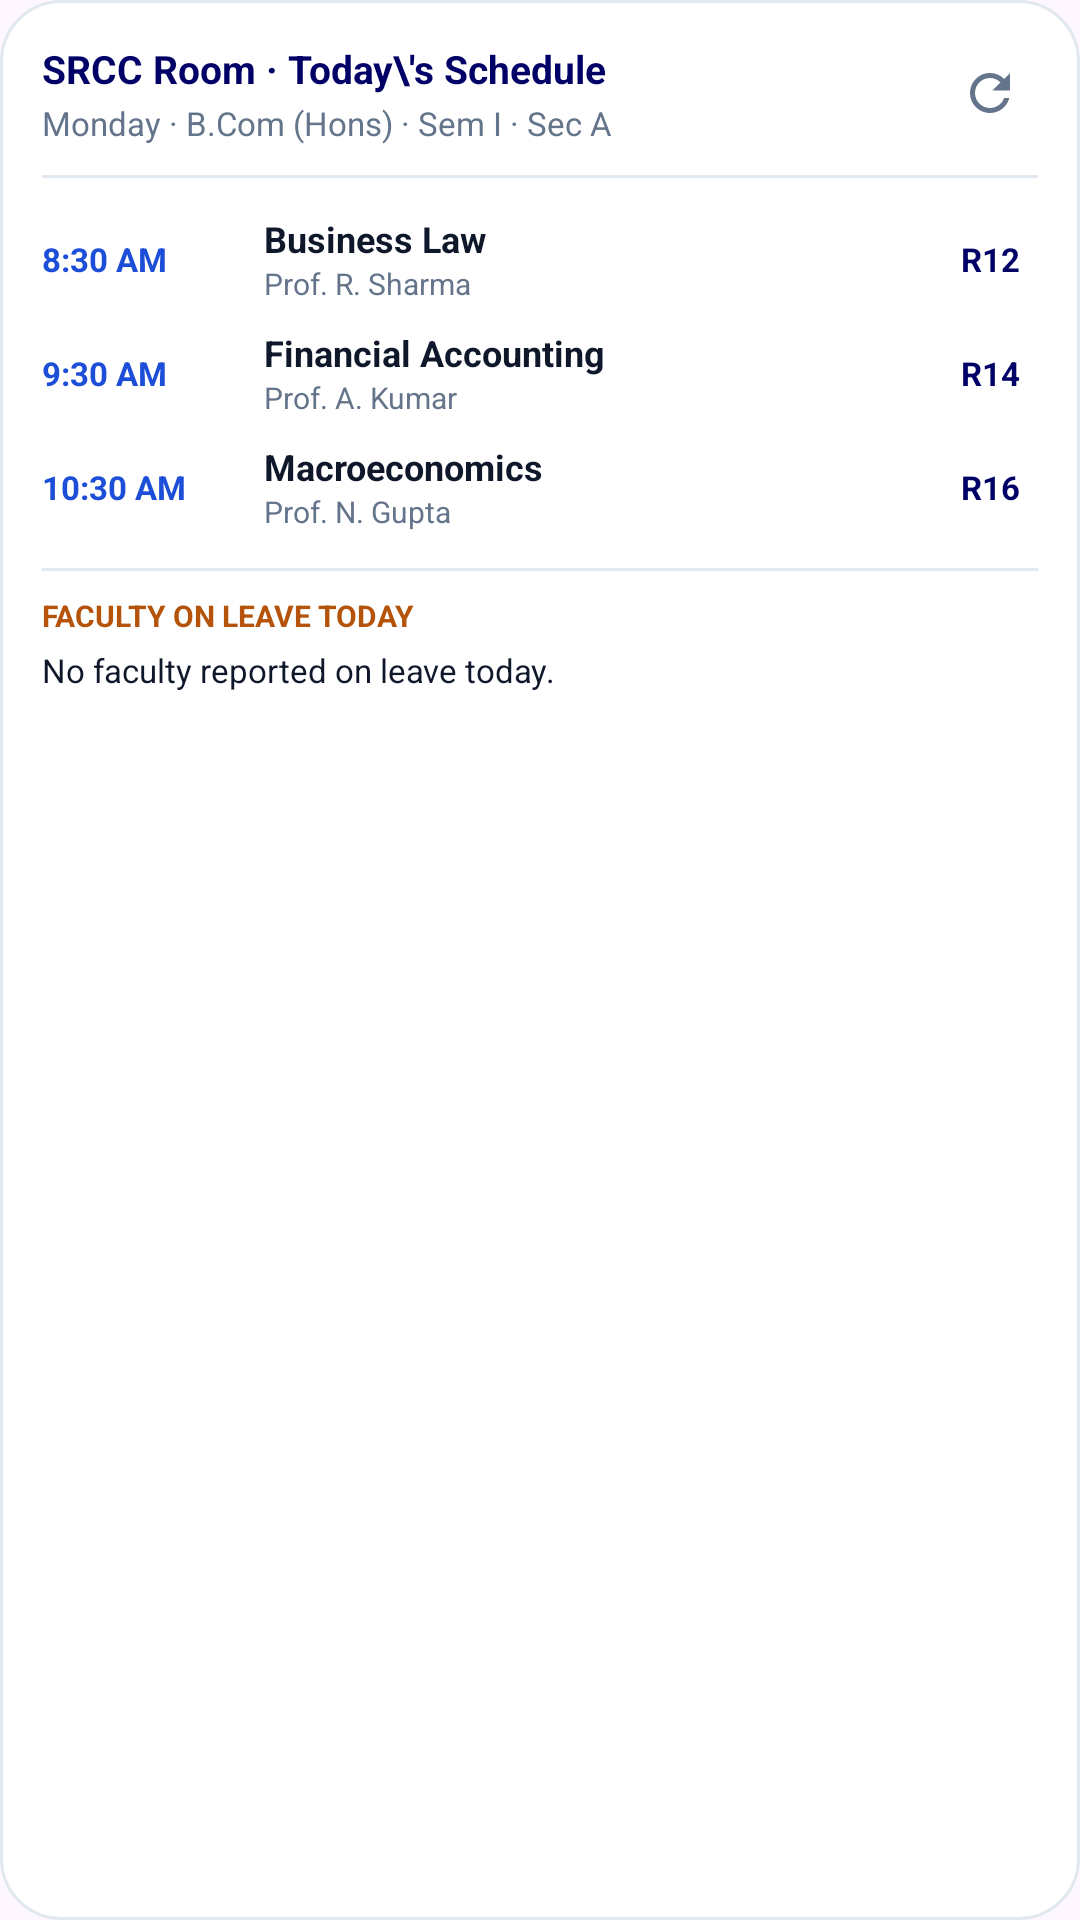

Where icons sit on this 1080px×1920px app screen, as (x1, y1, x2, y2):
Refresh Schedule: (970, 73, 1010, 113)
